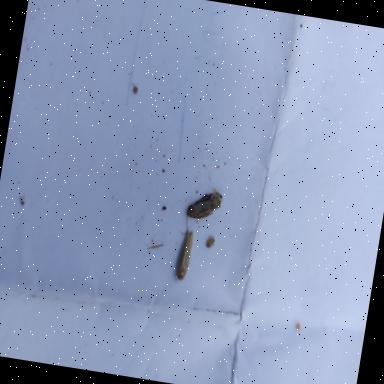pbw: (179, 184, 224, 238), (173, 228, 194, 282)
